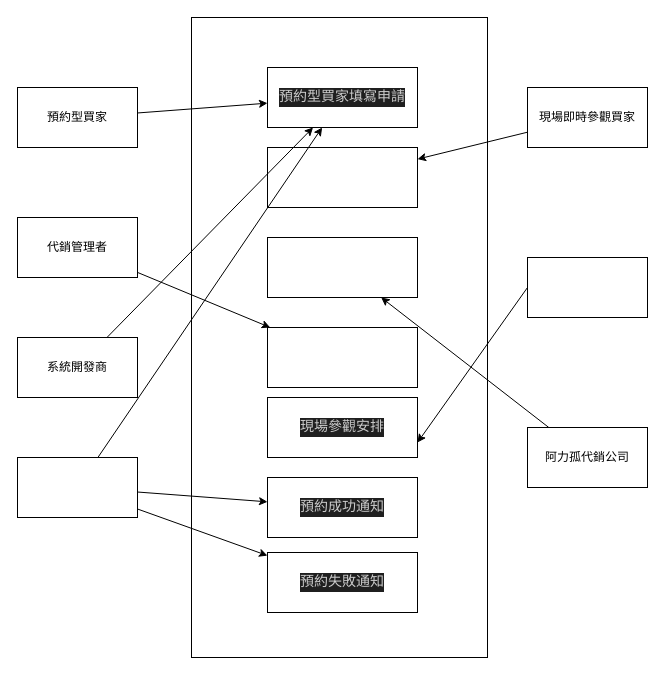
The diagram is 665 pixels wide and 675 high, and some of its shapes have lost their labels. Each missing label, with the centre of its shape:
"Line平台" goes at (77,487).
"接待代銷人員" goes at (587,287).
"現場即時參觀買家填寫申請" goes at (342,177).
"申請審核" goes at (342,267).
"預約時段安排" goes at (342,357).
